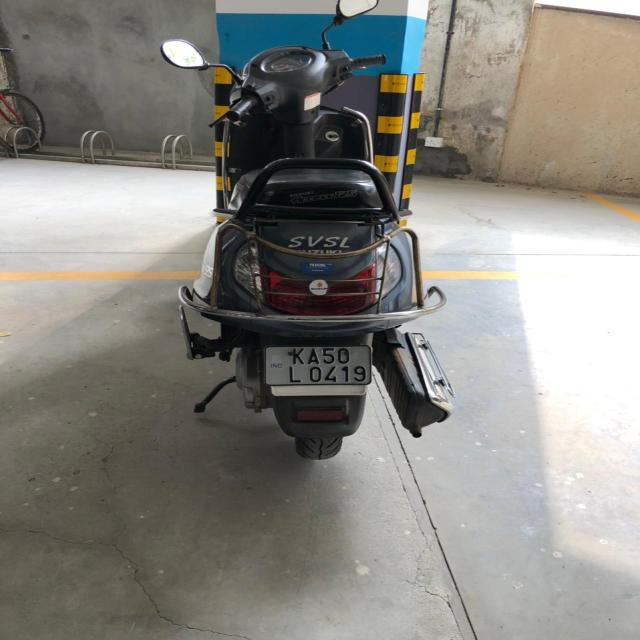license_plate: (263, 344, 372, 386)
